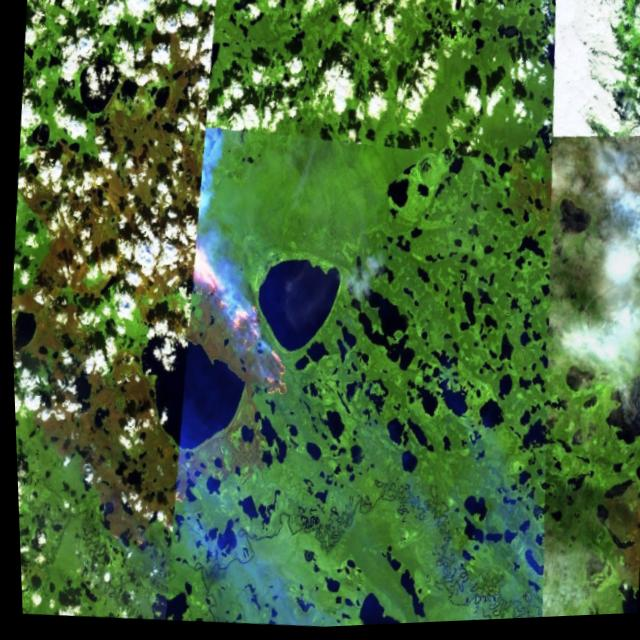fire: (165, 242, 301, 410)
